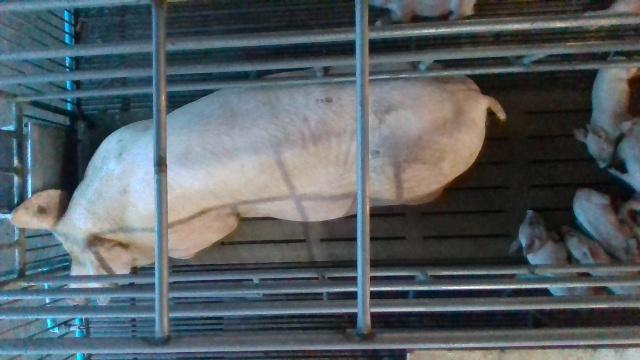piglet: (510, 209, 606, 298), (574, 52, 640, 167), (562, 226, 640, 295), (572, 188, 640, 262), (362, 0, 479, 29)
sow-sit: (11, 62, 507, 304)
